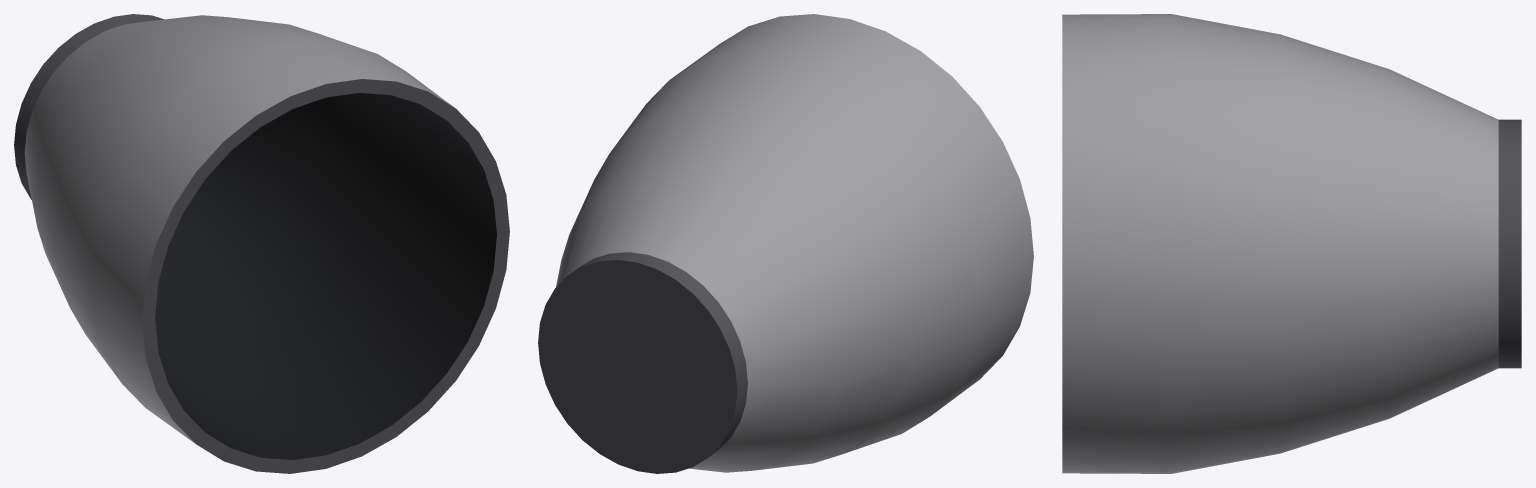
The model's file is model_engine_nozzle.gltf.
3 views of the same model, side by side, from view 1: azimuth 30°, elevation 25°; view 2: azimuth 150°, elevation 25°; view 3: azimuth 270°, elevation 25° (orthographic). The views are drawn at different scales.
Parts seen in each view (by area): view 1: model_engine_nozzle; view 2: model_engine_nozzle; view 3: model_engine_nozzle.
Part boxes in pixels (bbox=[...]): model_engine_nozzle: bbox=[14, 14, 509, 473]; model_engine_nozzle: bbox=[538, 14, 1033, 473]; model_engine_nozzle: bbox=[1062, 14, 1521, 473].
Bounding box in the file's own units: 1 × 1 × 1.
1 material, 1 textured.
